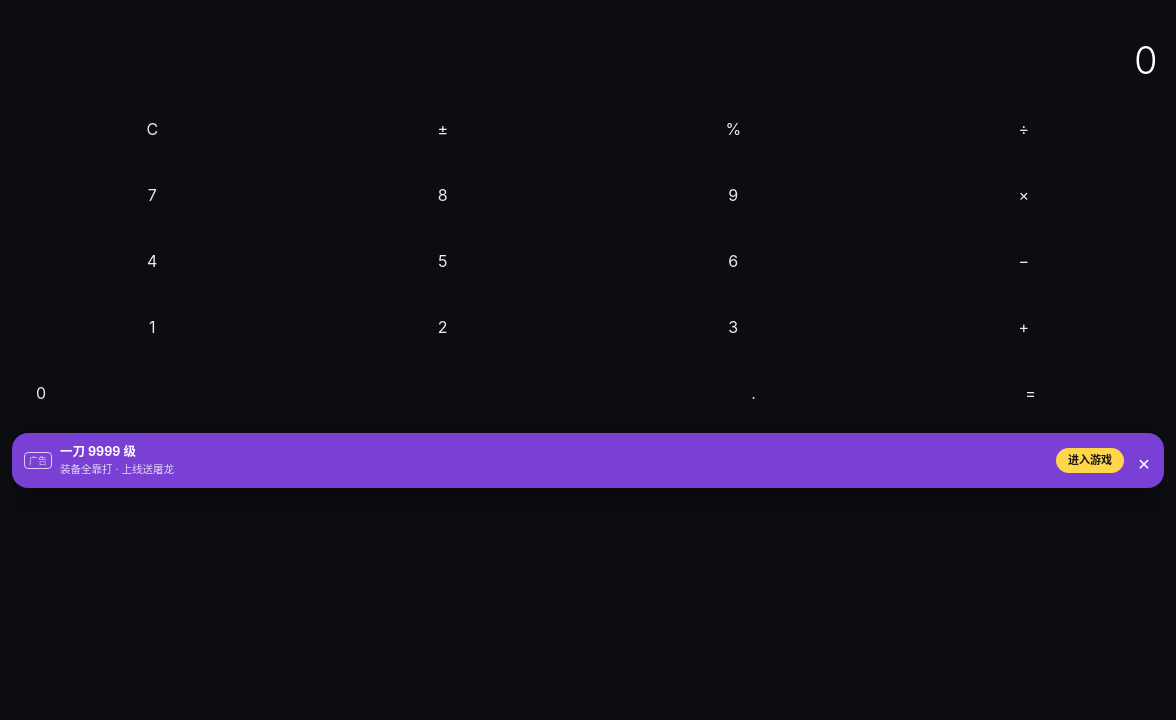
it: CalculatorApp 计算器功能测试 › 点击按键能正确完成加法运算并在点击等号后得出结果
Click the button "7" at [152, 195], box 12,167 -> 292,223
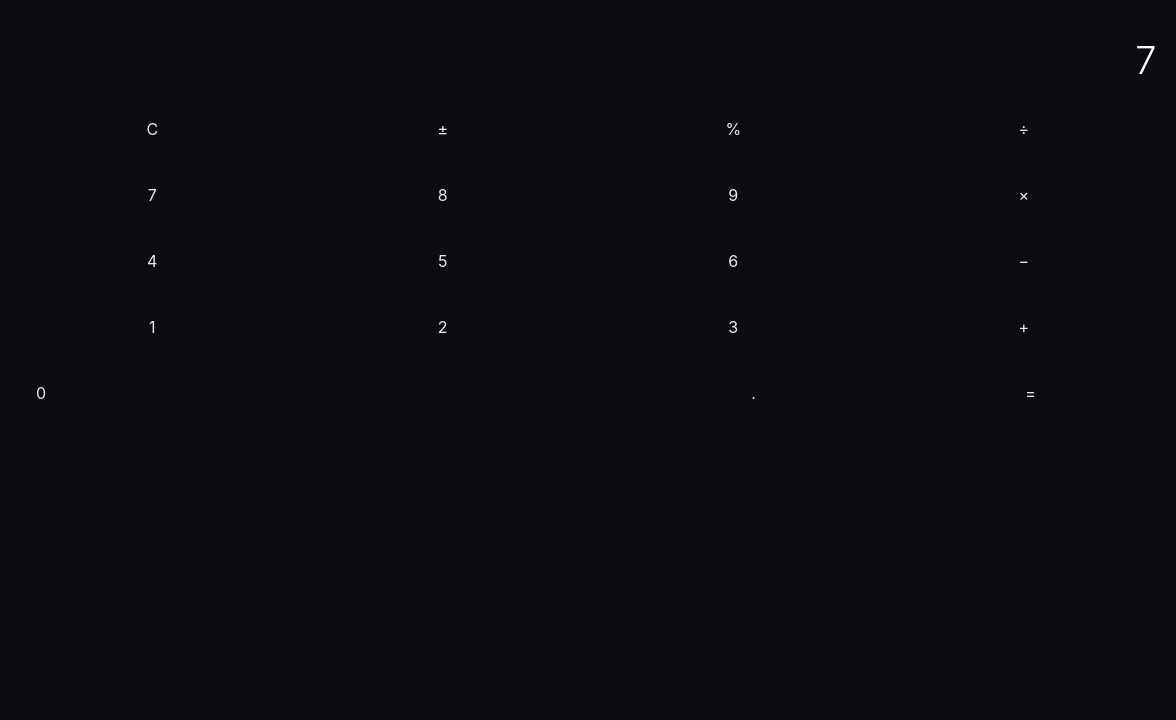
Click the button "+" at [1024, 327], box 884,299 -> 1164,355
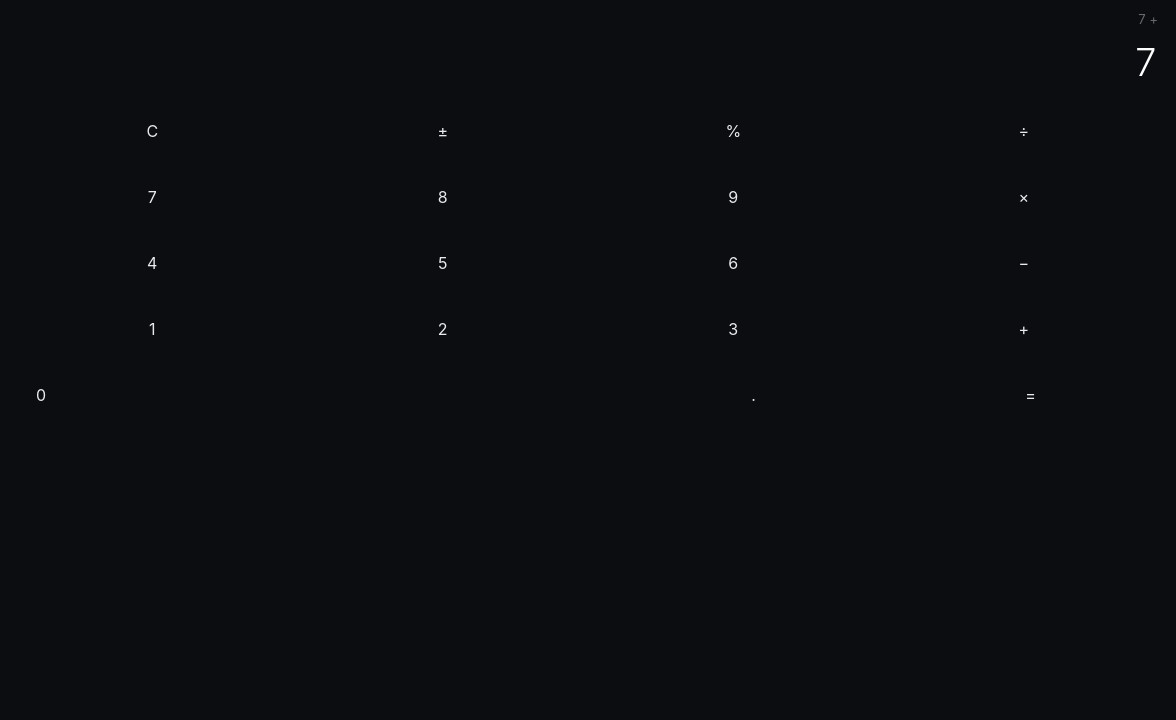
Click the button "8" at [443, 196], box 302,168 -> 583,224
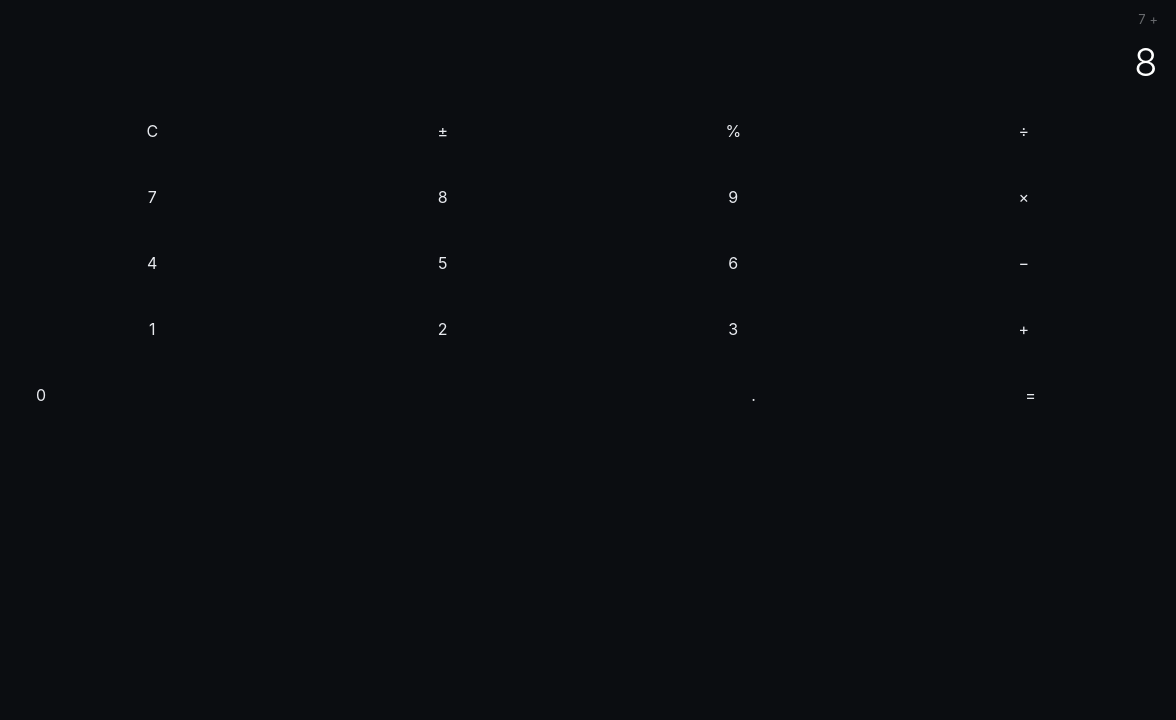
Click the button named "等于" at [1030, 394], box 897,366 -> 1164,422
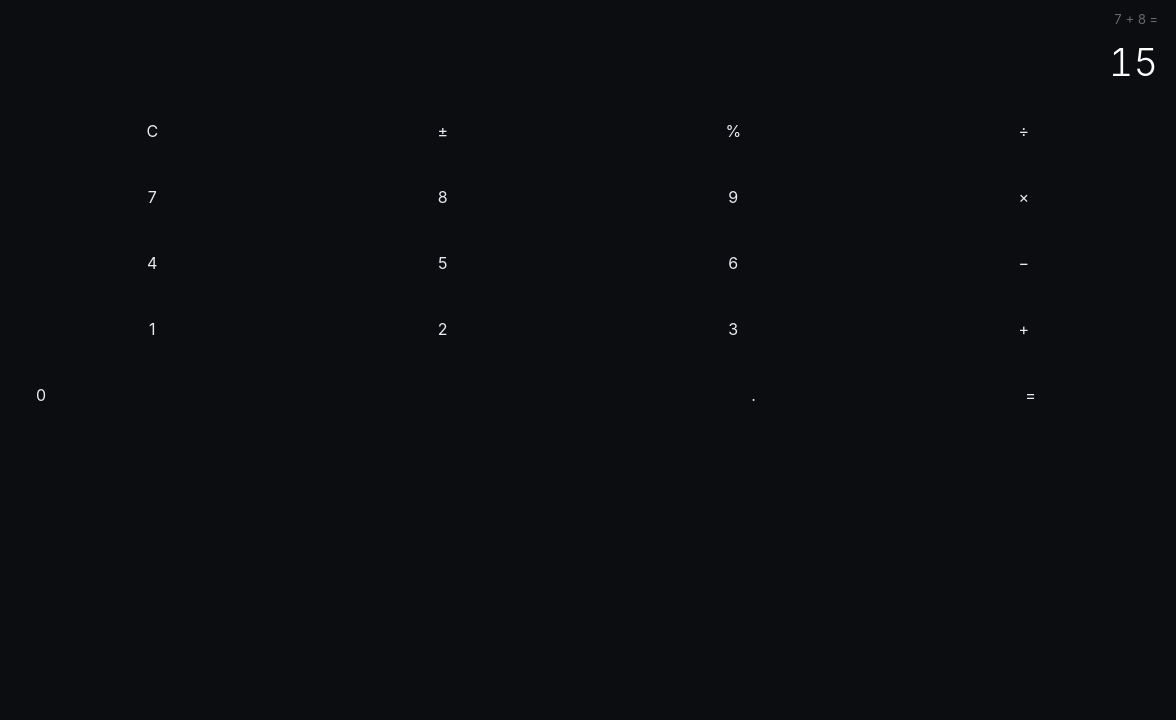
Check: the text "15" is shown, box 1109,34 -> 1158,90
